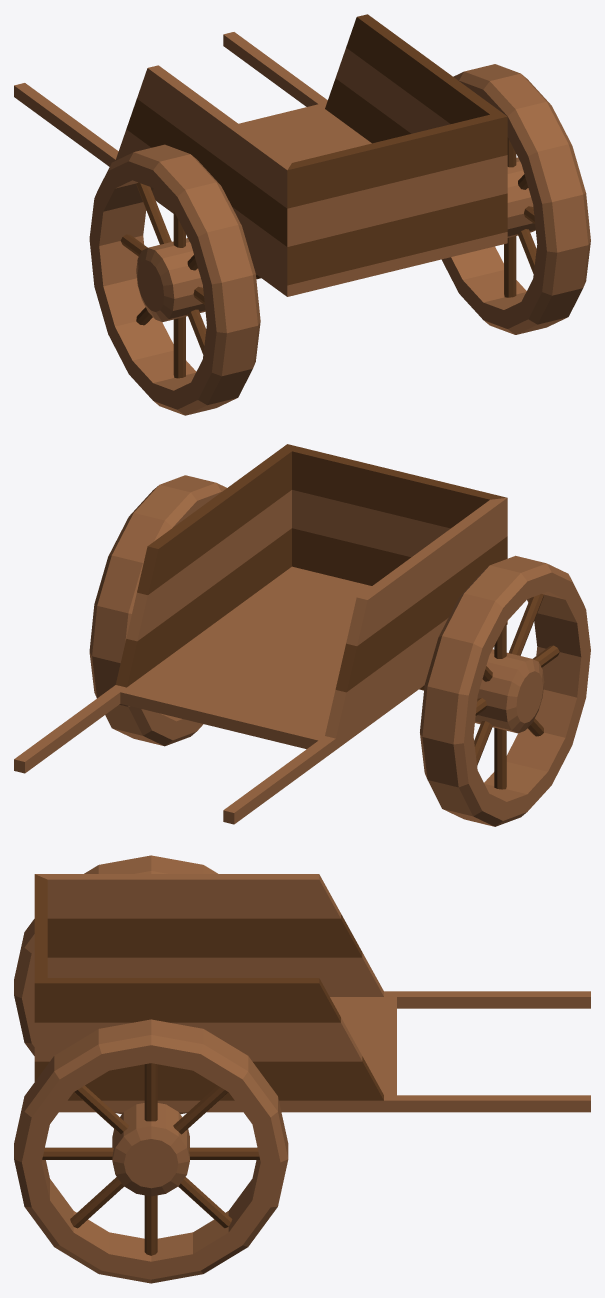
Rendered from Carro.fbx.
3 renders of one model, top to bottom at view 1: azimuth 30°, elevation 25°; view 2: azimuth 150°, elevation 25°; view 3: azimuth 270°, elevation 25°, orthographic.
Visible parts, largest first — view 1: Cube.001; view 2: Cube.001; view 3: Cube.001.
Boxes of the visible parts, bbox=[...] form: Cube.001: bbox=[14, 14, 590, 415]; Cube.001: bbox=[14, 444, 590, 826]; Cube.001: bbox=[14, 855, 590, 1283].
Bounding box in the file's own units: 6.89 × 4.52 × 8.92.
